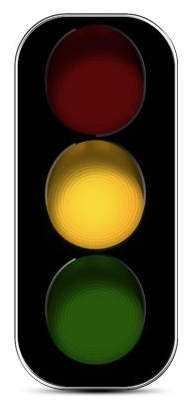yellow: (15, 9, 192, 403)
